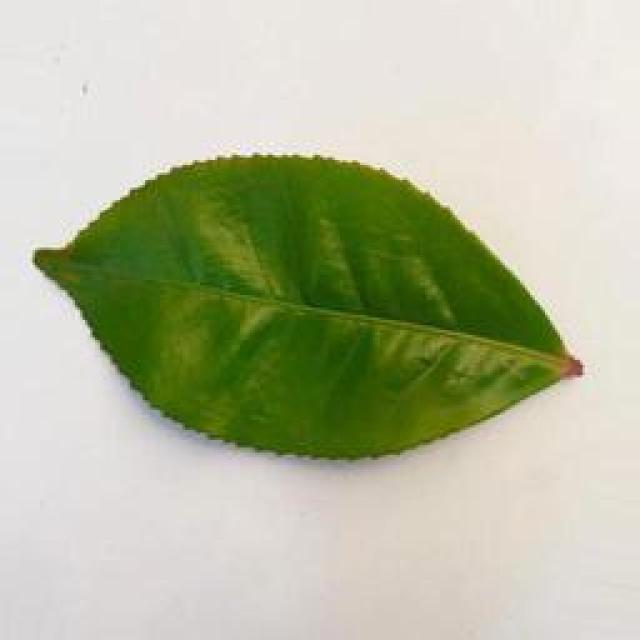Healthy: (25, 145, 595, 477)
